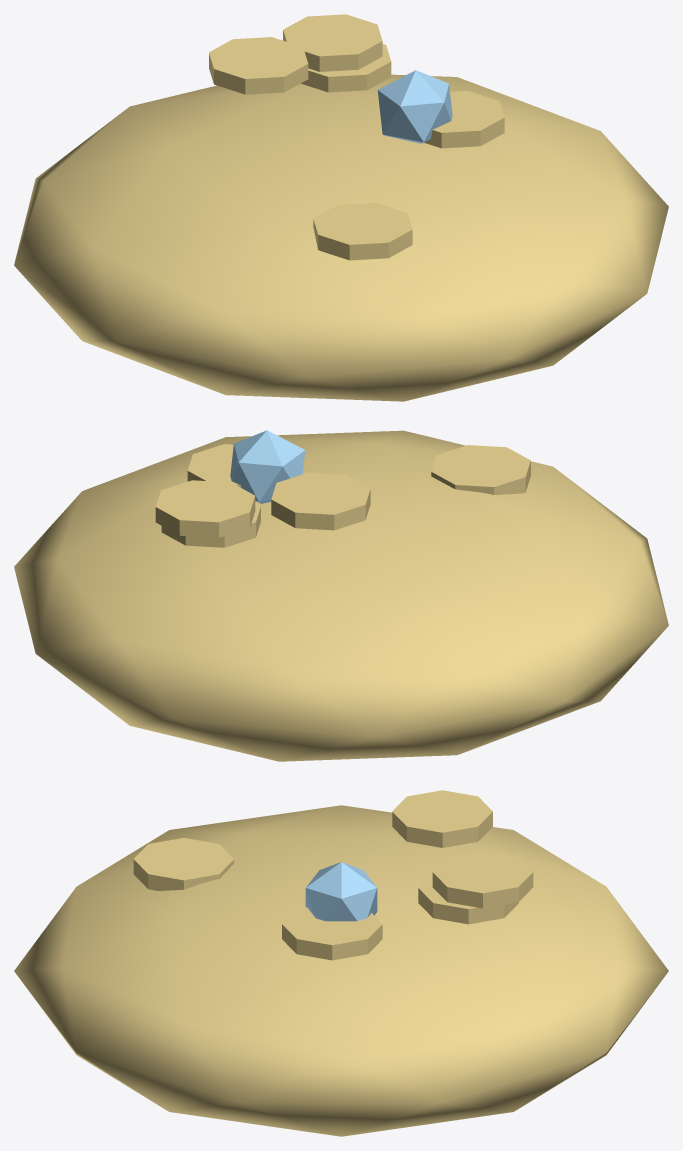
File: treasure_pile.glb
3 renders of one model, top to bottom at view 1: azimuth 30°, elevation 25°; view 2: azimuth 150°, elevation 25°; view 3: azimuth 270°, elevation 25°, orthographic. The views are drawn at different scales.
Visible parts, largest first — view 1: treasure_pile; view 2: treasure_pile; view 3: treasure_pile.
Boxes of the visible parts, x1=… form: treasure_pile: x1=14, y1=14, x2=668, y2=401; treasure_pile: x1=14, y1=430, x2=668, y2=761; treasure_pile: x1=14, y1=790, x2=668, y2=1136.
Size of the model in its own units: 0.7418 by 0.31 by 0.78.
